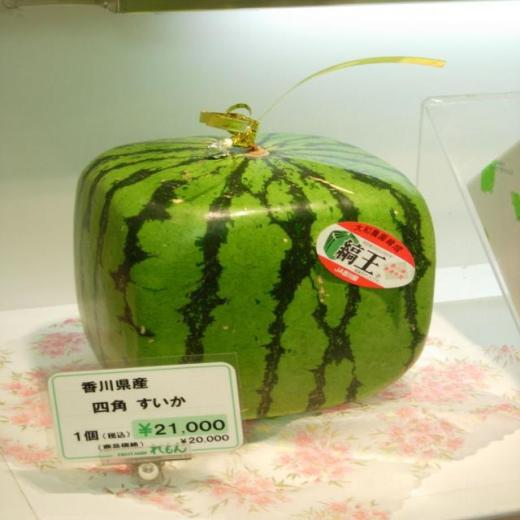Cherry: (73, 133, 436, 421)
